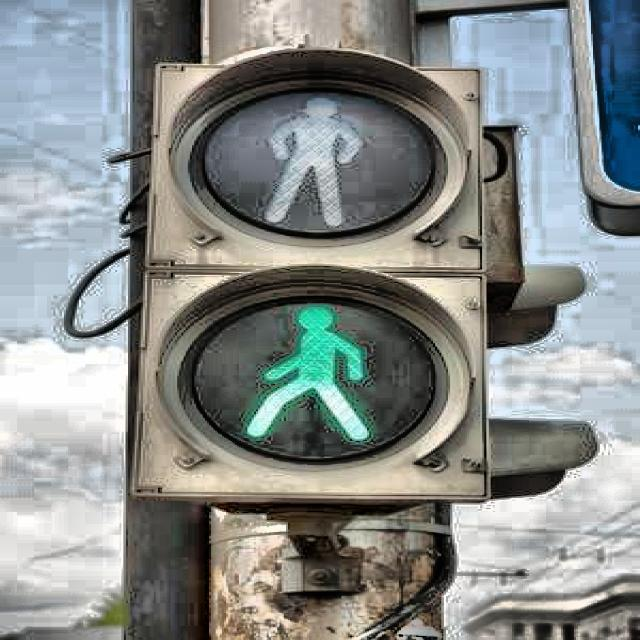green_light: (232, 297, 376, 445)
